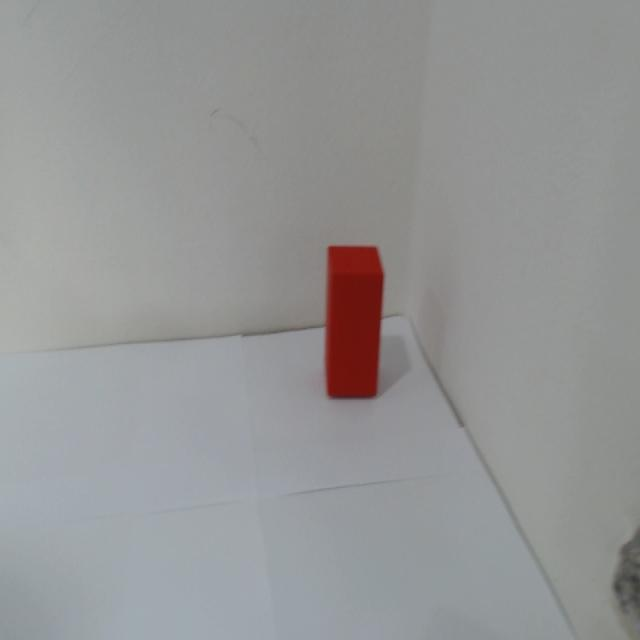cube: (319, 241, 387, 402)
